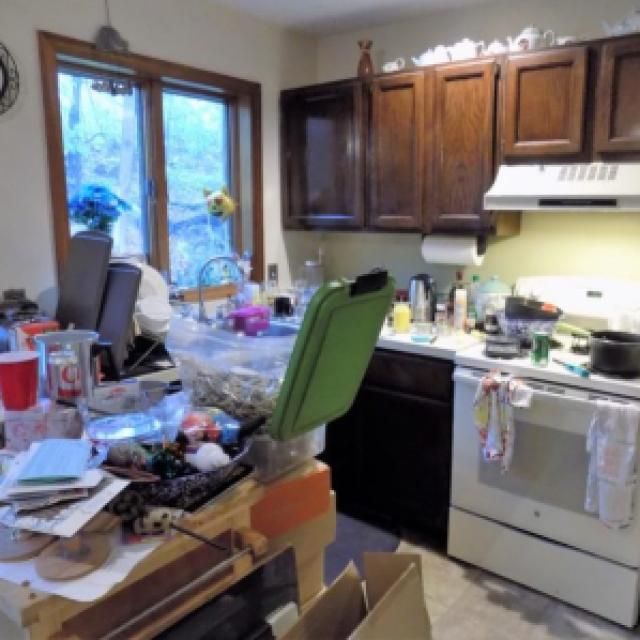scattered-items: (3, 164, 640, 576)
